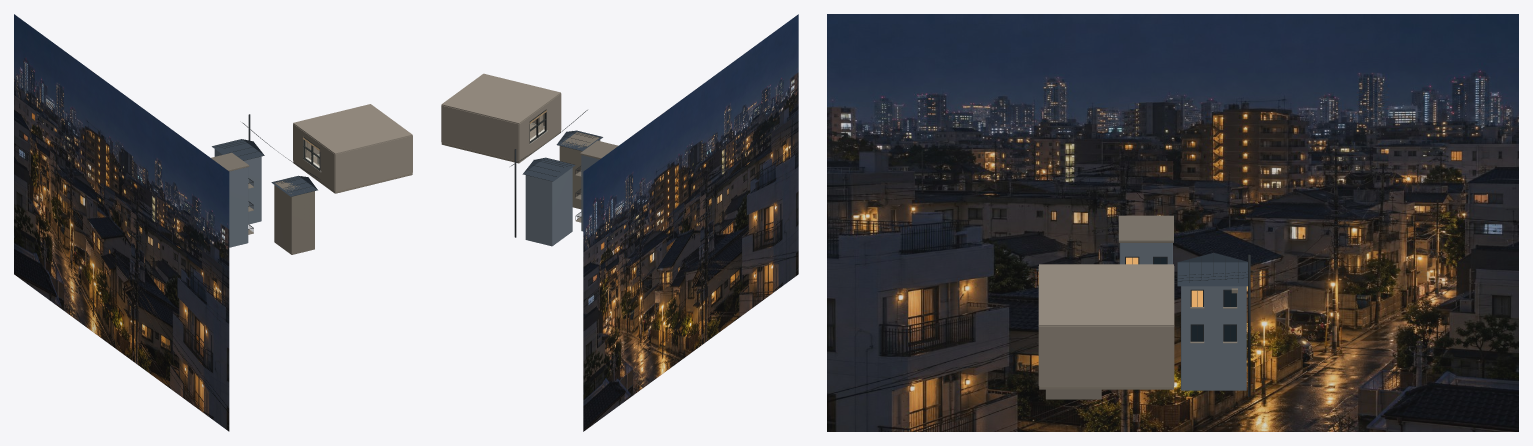
Rendered from quiet-studio.glb.
3 renders of one model, left to right at view 1: azimuth 30°, elevation 25°; view 2: azimuth 150°, elevation 25°; view 3: azimuth 270°, elevation 25°, orthographic. The views are drawn at different scales.
Parts seen in each view (by area): view 1: WindowJapanNight, Plaster ceiling, ExteriorGeometry_Exterior warm gray plaster, Front plaster wall, ExteriorGeometry_Exterior weathered blue-gray plaster, ExteriorGeometry_Exterior charcoal roof tile, ExteriorGeometry_Exterior dark balcony metal, Window wall lower; view 2: WindowJapanNight, ExteriorGeometry_Exterior weathered blue-gray plaster, Plaster ceiling, Rear plaster wall, ExteriorGeometry_Exterior warm gray plaster, ExteriorGeometry_Exterior charcoal roof tile, ExteriorGeometry_Exterior dark balcony metal, Room plinth, Window wall lower, Window wall front pier; view 3: WindowJapanNight, Plaster ceiling, Right plaster wall, ExteriorGeometry_Exterior weathered blue-gray plaster, ExteriorGeometry_Exterior warm gray plaster, ExteriorGeometry_Exterior charcoal roof tile, ExteriorGeometry_Exterior dark balcony metal, ExteriorGeometry_Exterior unlit glass.
Part boxes in pixels (box(x1,y1,x2,y2)): WindowJapanNight: box(14, 14, 229, 431); Plaster ceiling: box(293, 104, 412, 154); ExteriorGeometry_Exterior warm gray plaster: box(211, 152, 314, 254); Front plaster wall: box(335, 135, 412, 191); ExteriorGeometry_Exterior weathered blue-gray plaster: box(214, 149, 261, 247); ExteriorGeometry_Exterior charcoal roof tile: box(212, 139, 317, 196); ExteriorGeometry_Exterior dark balcony metal: box(212, 114, 317, 232); Window wall lower: box(293, 152, 334, 191); WindowJapanNight: box(583, 14, 798, 431); ExteriorGeometry_Exterior weathered blue-gray plaster: box(525, 155, 599, 246); Plaster ceiling: box(441, 73, 560, 124); Rear plaster wall: box(441, 105, 519, 160); ExteriorGeometry_Exterior warm gray plaster: box(559, 132, 618, 222); ExteriorGeometry_Exterior charcoal roof tile: box(523, 130, 602, 181); ExteriorGeometry_Exterior dark balcony metal: box(514, 130, 601, 237); Room plinth: box(441, 124, 560, 163); Window wall lower: box(519, 121, 560, 160); Window wall front pier: box(546, 99, 560, 130); WindowJapanNight: box(827, 14, 1518, 431); Plaster ceiling: box(1039, 264, 1173, 326); Right plaster wall: box(1039, 326, 1173, 386); ExteriorGeometry_Exterior weathered blue-gray plaster: box(1119, 243, 1246, 390); ExteriorGeometry_Exterior warm gray plaster: box(1045, 215, 1237, 399); ExteriorGeometry_Exterior charcoal roof tile: box(1177, 253, 1247, 286); ExteriorGeometry_Exterior dark balcony metal: box(1125, 252, 1250, 396); ExteriorGeometry_Exterior unlit glass: box(1154, 257, 1235, 341).
Bounding box in the file's own units: 26.08 × 26 × 39.
Materials: 31 (6 with a texture image).
